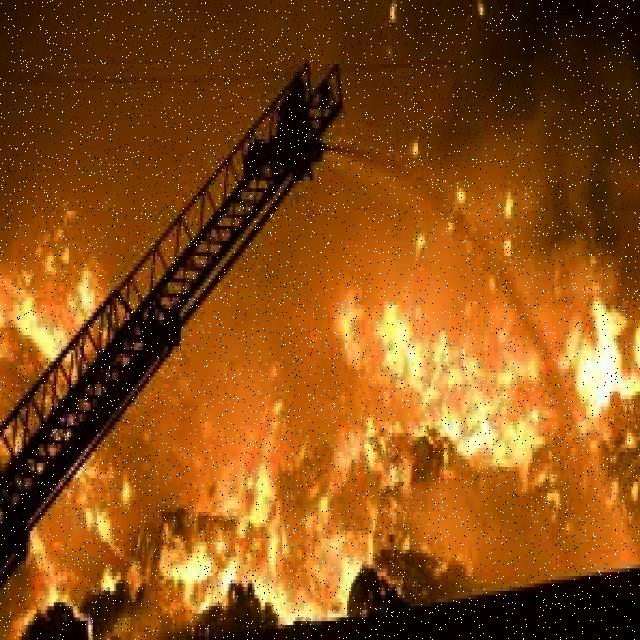fire: (9, 210, 640, 566)
